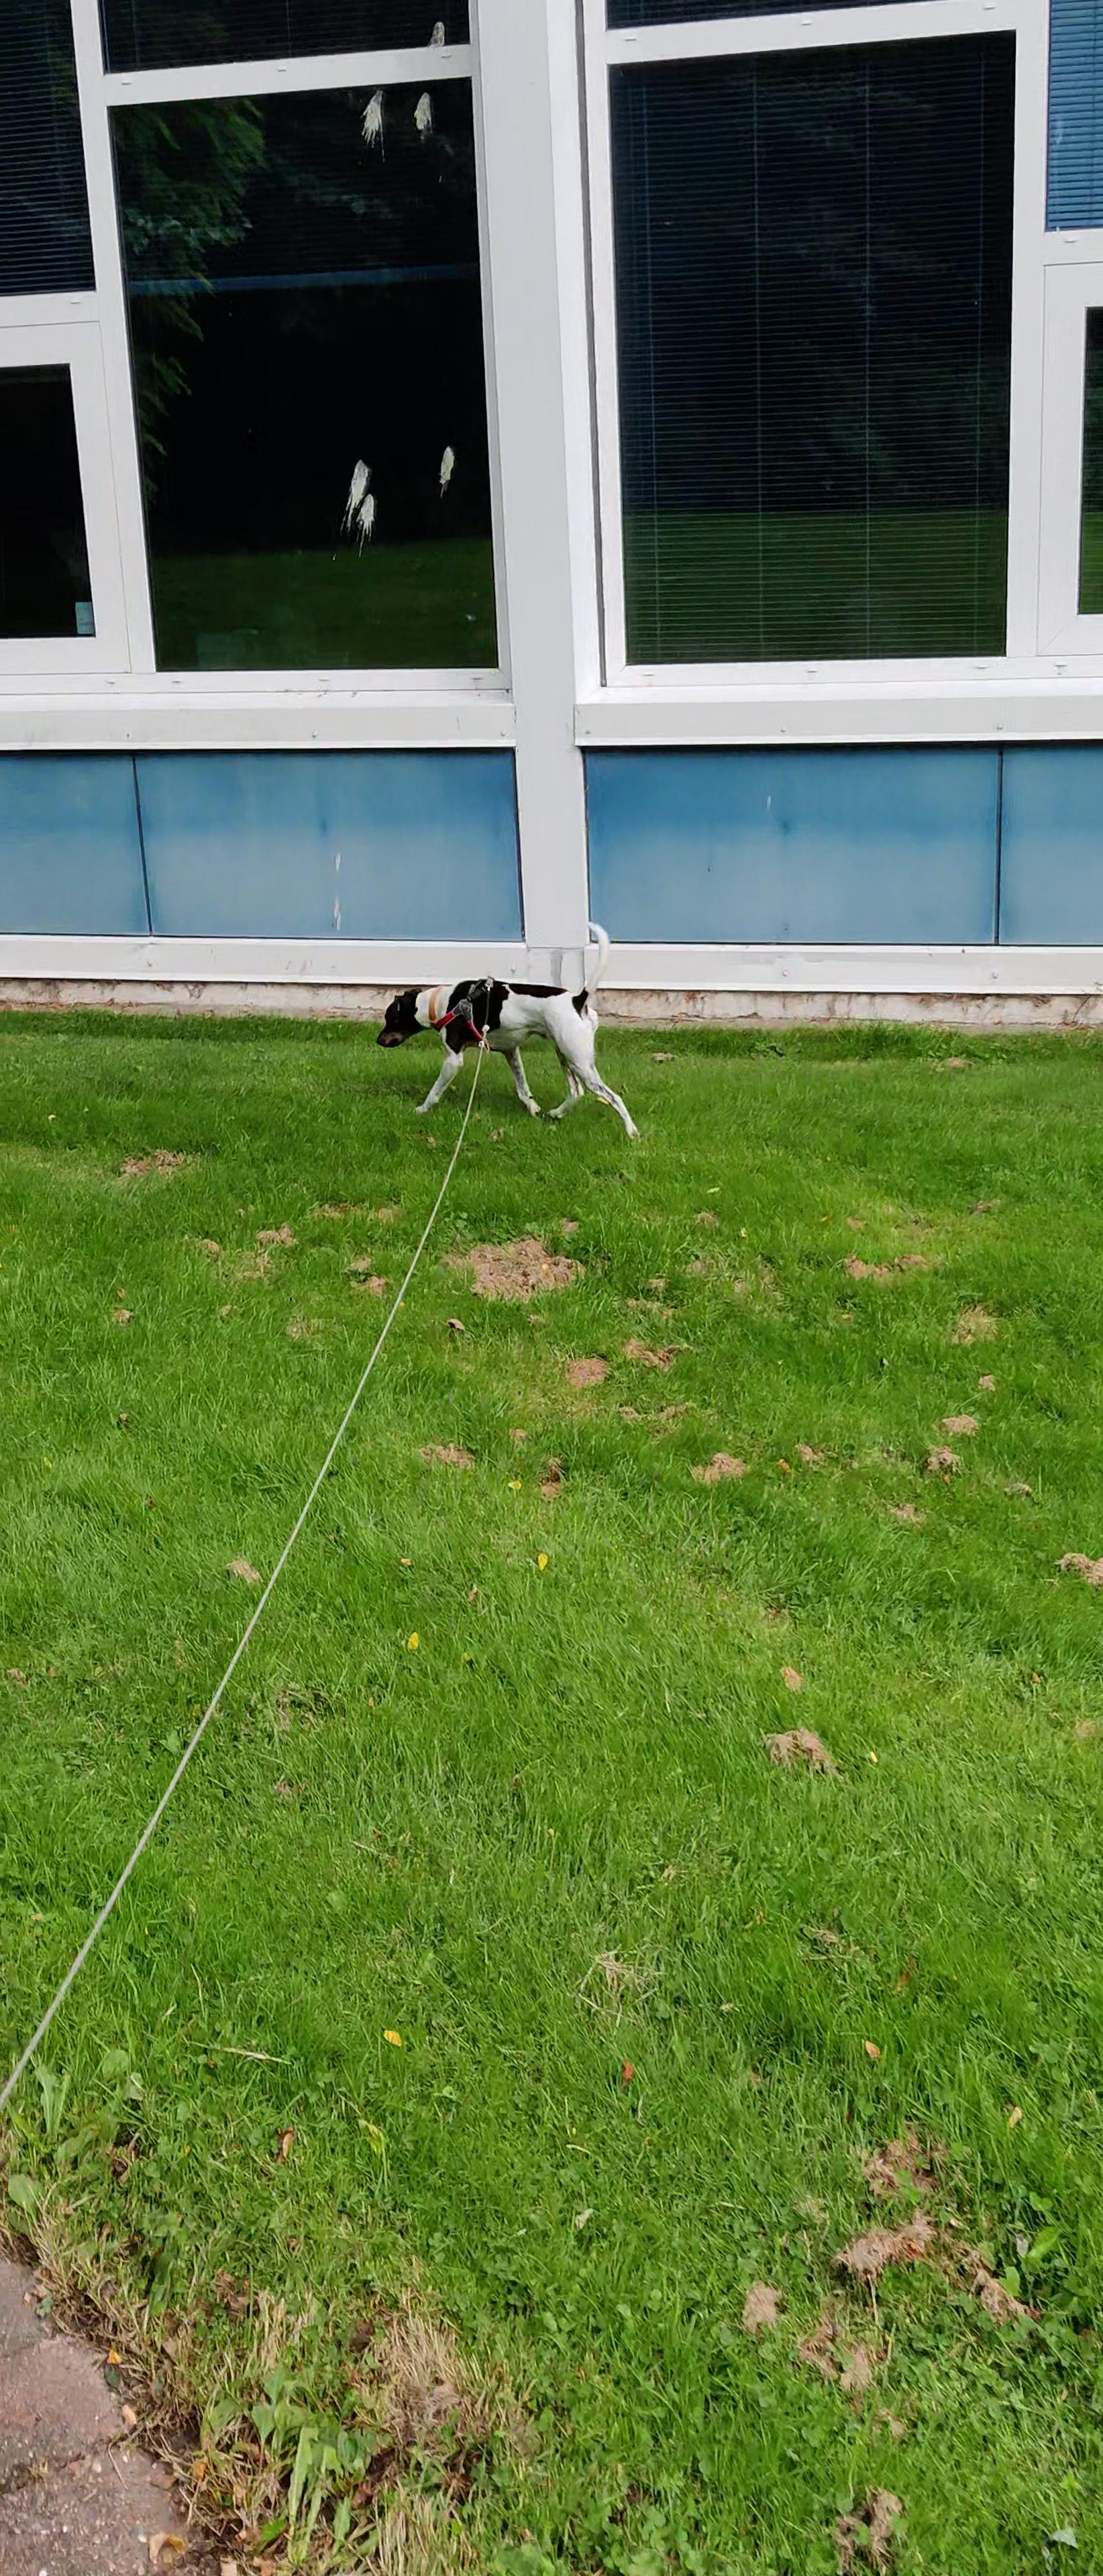Dog: (373, 912, 648, 1147)
